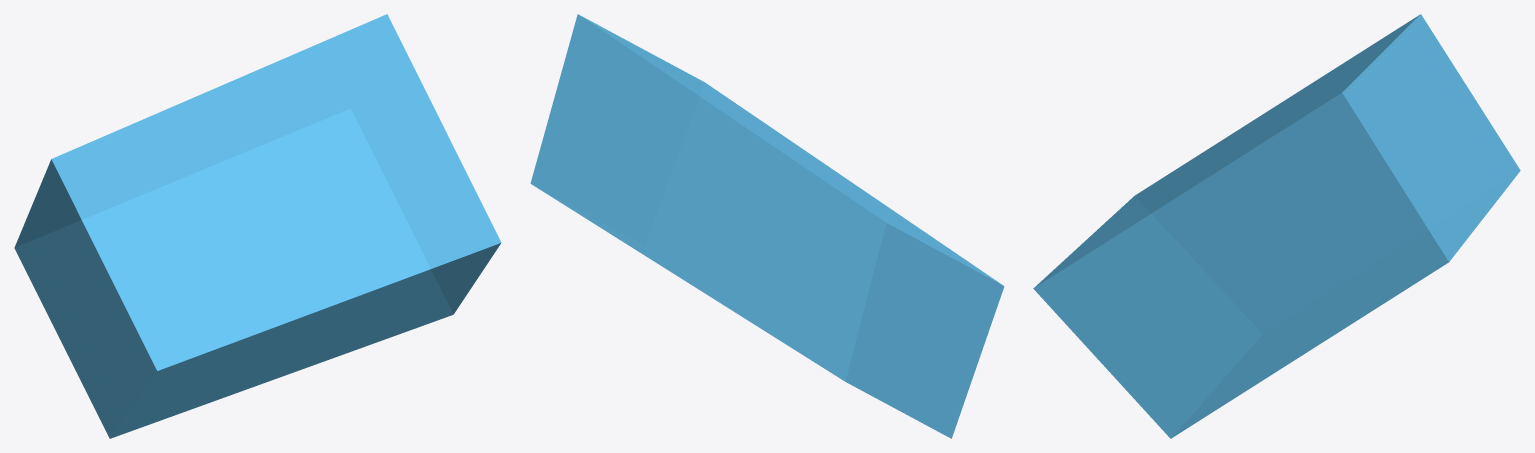
The model's file is Event_421556567_HErechit_27.fbx.
3 views of the same model, side by side, from view 1: azimuth 30°, elevation 25°; view 2: azimuth 150°, elevation 25°; view 3: azimuth 270°, elevation 25° (orthographic). The views are drawn at different scales.
Visible parts, largest first — view 1: Model; view 2: Model; view 3: Model.
Part boxes in pixels (bbox=[...]): Model: bbox=[14, 14, 501, 438]; Model: bbox=[530, 14, 1004, 438]; Model: bbox=[1033, 14, 1520, 438].
Bounding box in the file's own units: 0.8068 × 0.8181 × 0.814.
